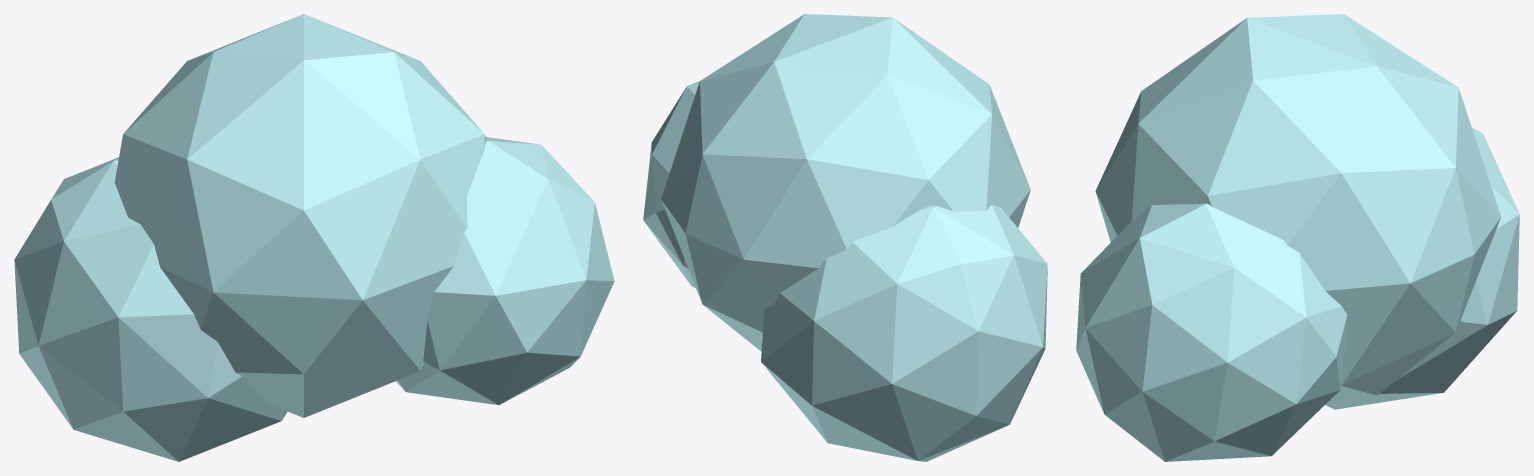
The model's file is cloud3_00008.fbx.
3 views of the same model, side by side, from view 1: azimuth 30°, elevation 25°; view 2: azimuth 150°, elevation 25°; view 3: azimuth 270°, elevation 25° (orthographic). The views are drawn at different scales.
Parts seen in each view (by area): view 1: cloud3; view 2: cloud3; view 3: cloud3.
Part boxes in pixels (box(x1,y1,x2,y2)): cloud3: box(14, 14, 614, 461); cloud3: box(643, 14, 1047, 461); cloud3: box(1076, 14, 1519, 461).
Bounding box in the file's own units: 408 × 326 × 320.
